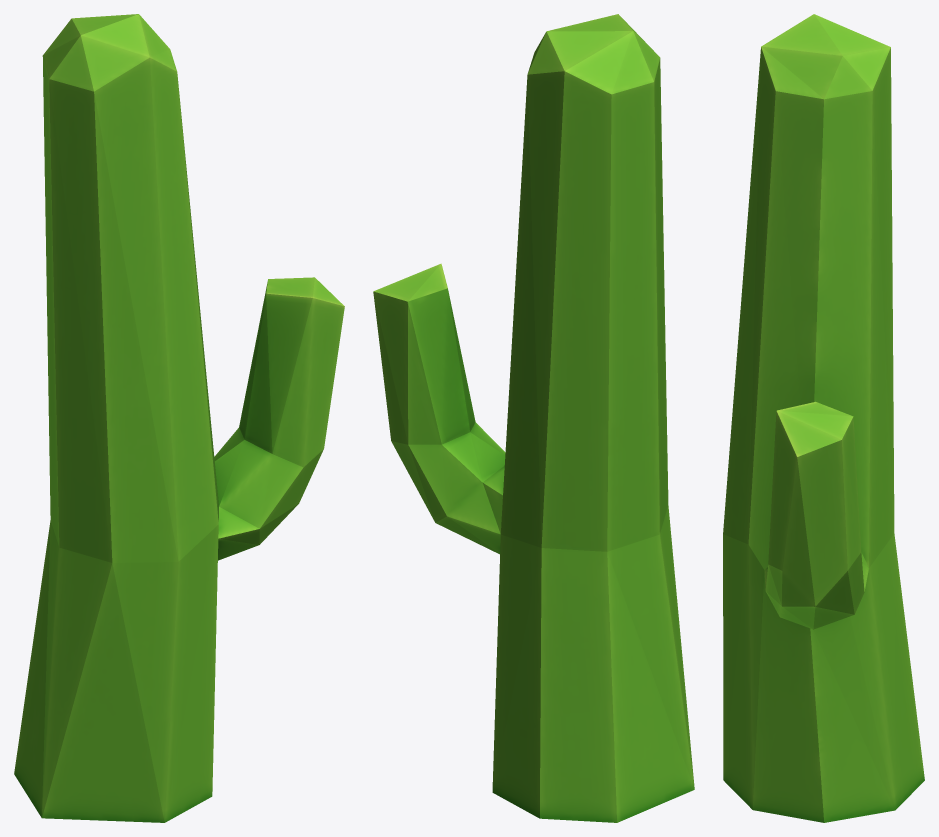
Rendered from Cactus_17.fbx.
3 views of the same model, side by side, from view 1: azimuth 30°, elevation 25°; view 2: azimuth 150°, elevation 25°; view 3: azimuth 270°, elevation 25° (orthographic).
Parts seen in each view (by area): view 1: Cactus_17; view 2: Cactus_17; view 3: Cactus_17.
Part boxes in pixels (x1=…): Cactus_17: x1=14, y1=14, x2=344, y2=822; Cactus_17: x1=373, y1=14, x2=694, y2=822; Cactus_17: x1=723, y1=14, x2=924, y2=822.
Bounding box in the file's own units: 25.56 × 60.9 × 14.9.
